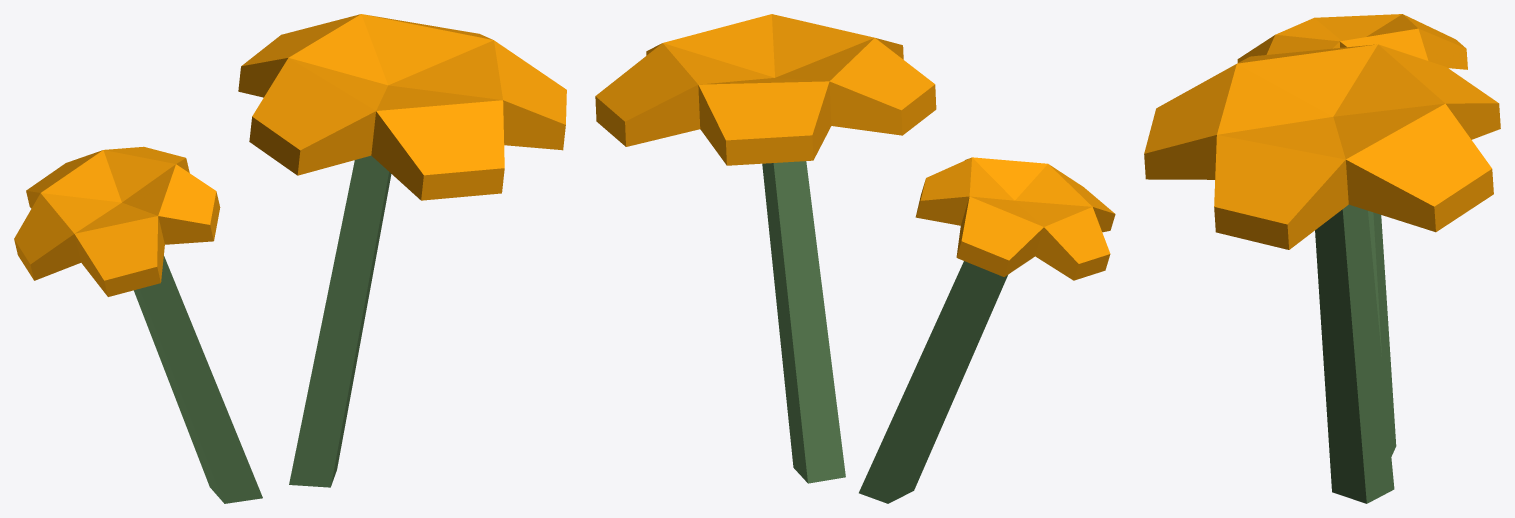
File: SM_Env_FlowerPatch_03.obj
3 views of the same model, side by side, from view 1: azimuth 30°, elevation 25°; view 2: azimuth 150°, elevation 25°; view 3: azimuth 270°, elevation 25° (orthographic). The views are drawn at different scales.
Parts seen in each view (by area): view 1: SM_Env_FlowerPatch_03_0; view 2: SM_Env_FlowerPatch_03_0; view 3: SM_Env_FlowerPatch_03_0.
Part boxes in pixels (x1,y1,x2,y2): SM_Env_FlowerPatch_03_0: (14,14,566,503); SM_Env_FlowerPatch_03_0: (595,14,1115,503); SM_Env_FlowerPatch_03_0: (1144,14,1500,503).
Bounding box in the file's own units: 0.4426 × 0.3465 × 0.256.
Materials: 1 (1 with a texture image).
